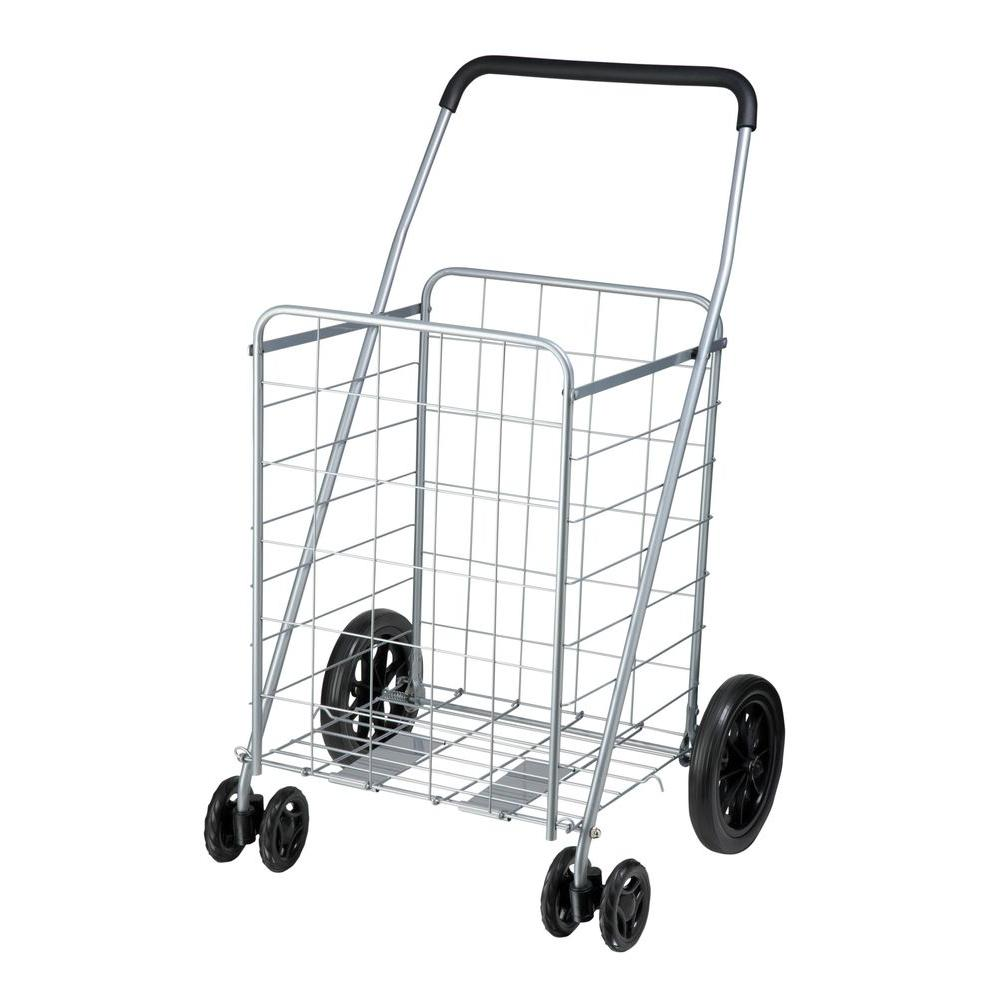Carts: (205, 49, 789, 952)
